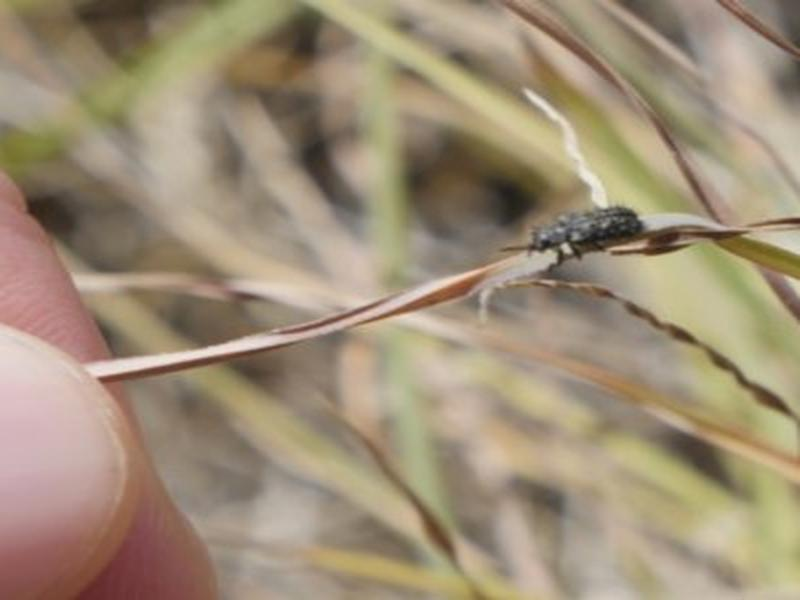Spiny_beetle: (484, 174, 696, 298)
